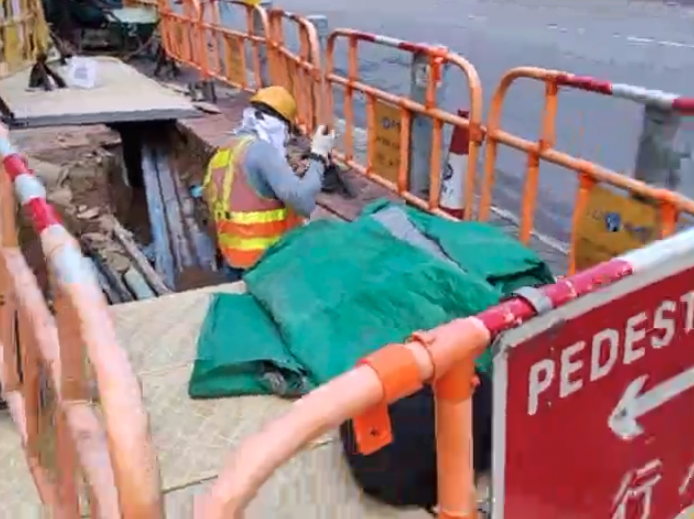Hard Hat: (251, 85, 300, 136)
Vest: (206, 130, 309, 273)
